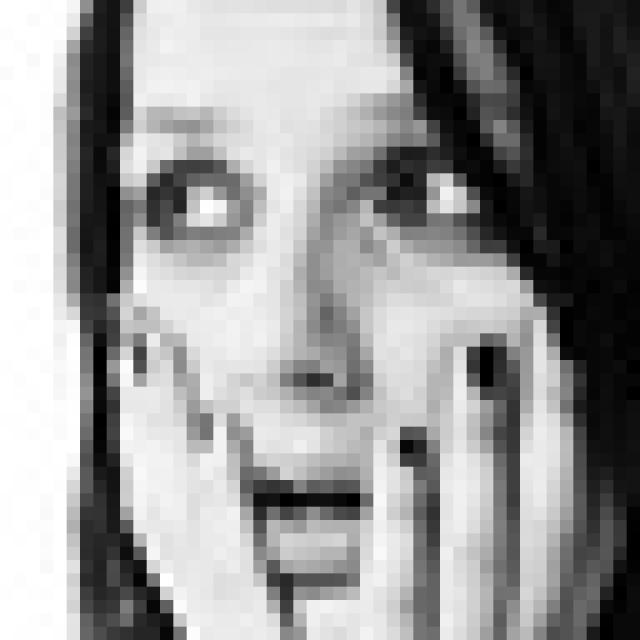fear: (128, 87, 514, 608)
